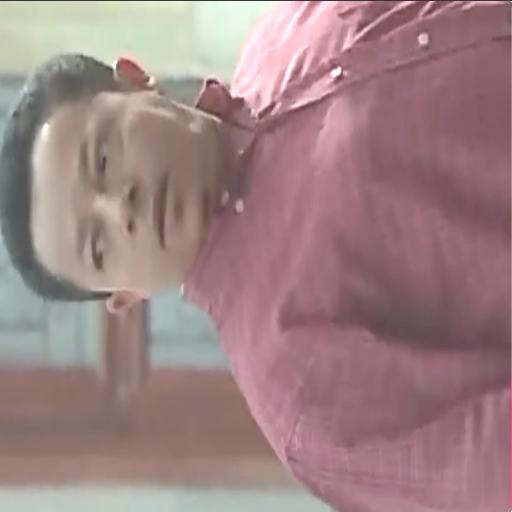fouchika: (31, 58, 222, 311)
